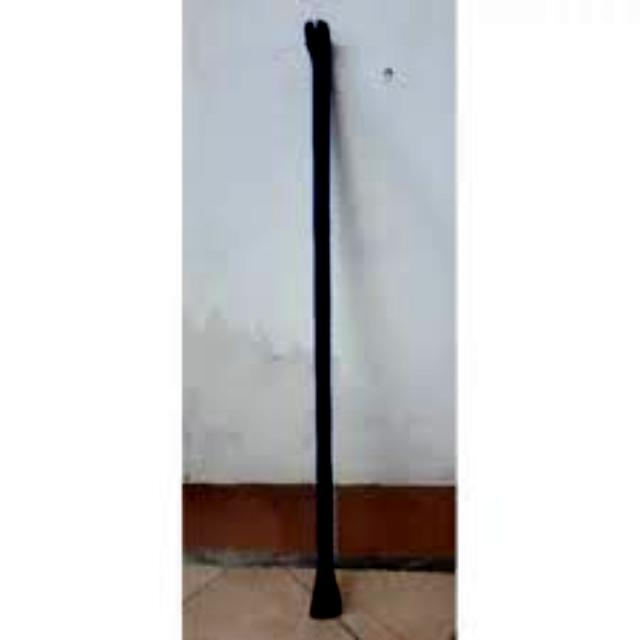crow bar: (287, 8, 363, 640)
